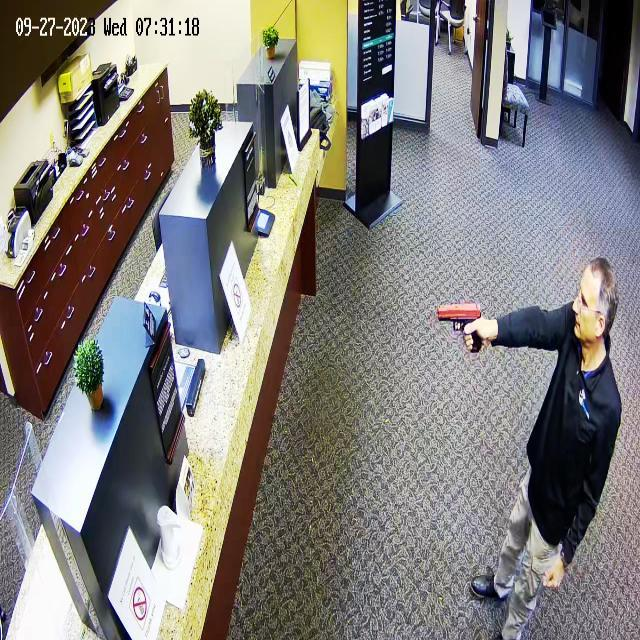Gun: (432, 289, 492, 362)
